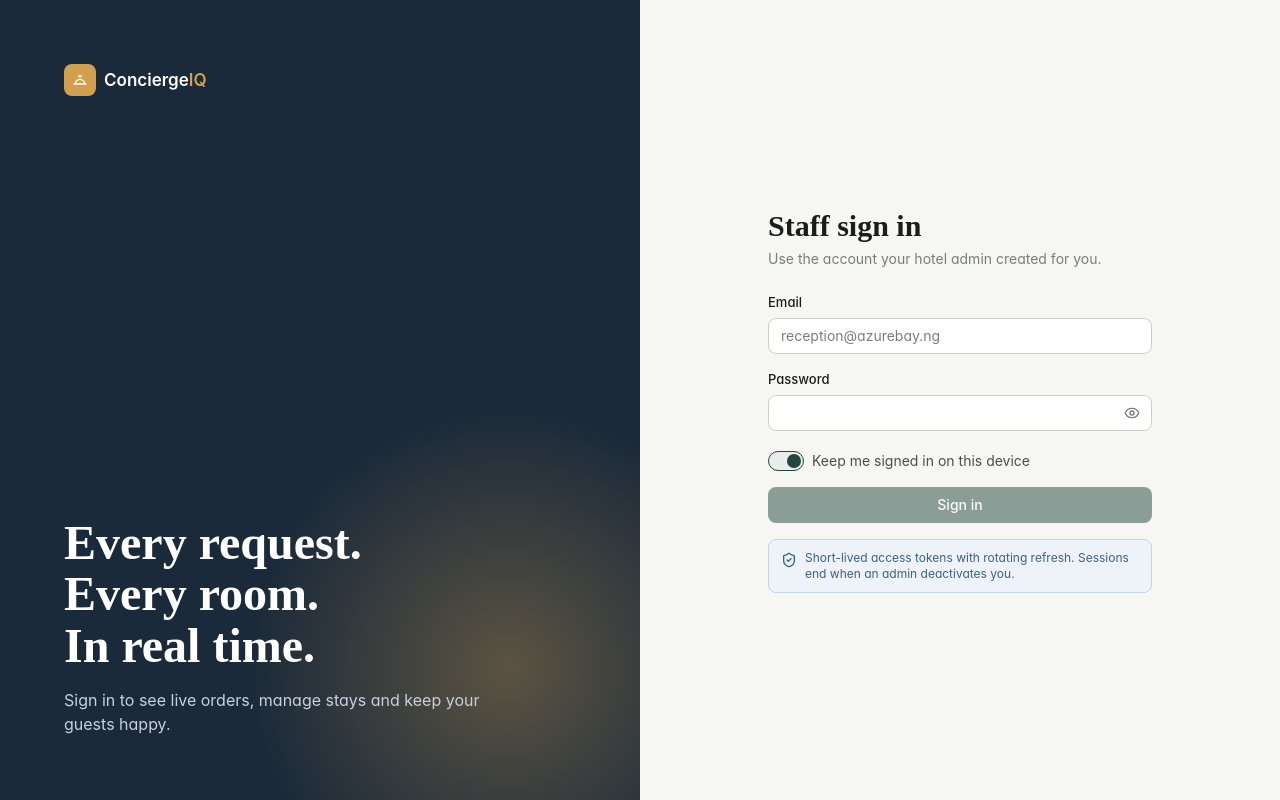
Test: submit button state › is enabled when both fields contain text
Expected: the heading "Staff sign in" is shown, [768,209,921,242]
In the field labelled "Email": (960, 336) [768,318,1152,354], type "amaka@azurebay.test"
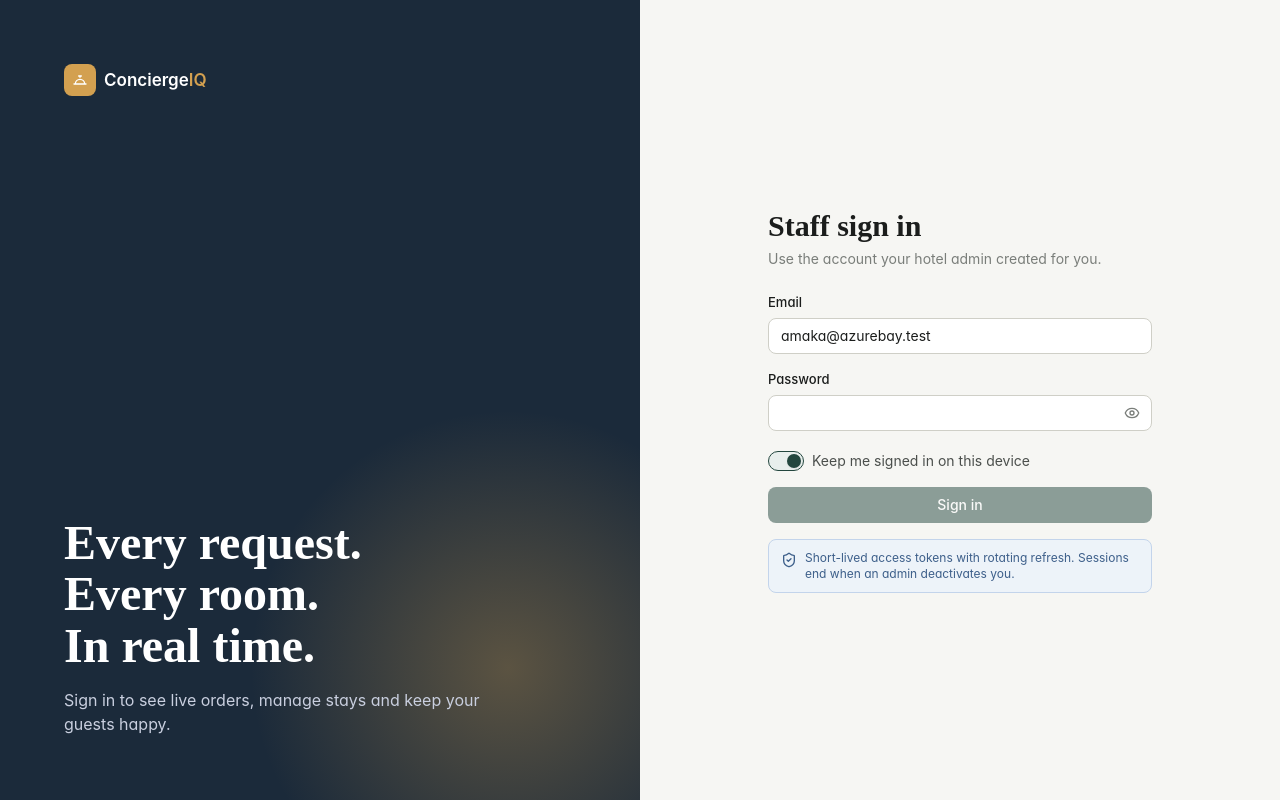
In the password field labelled "Password": (960, 413) [768,395,1152,431], type "ChangeMe123!"
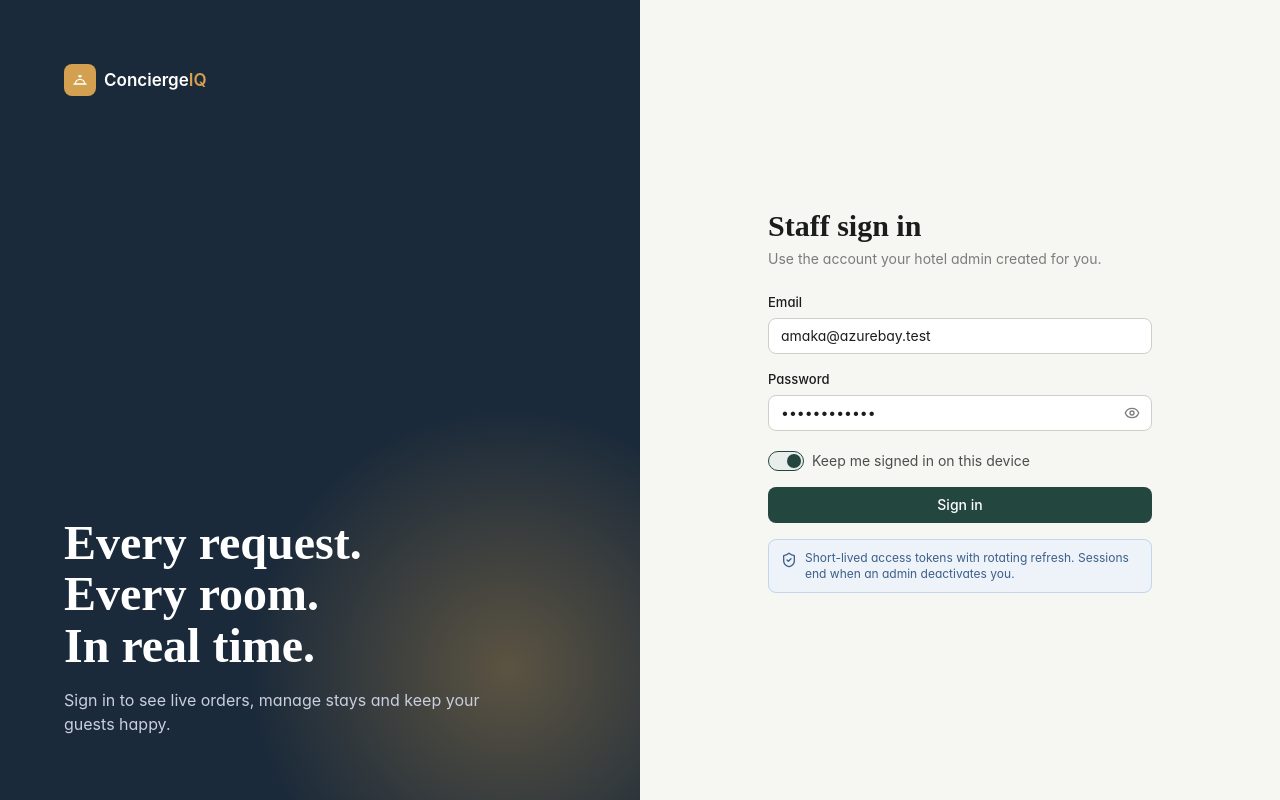
Expected: the button "Sign in" is enabled, [768,487,1152,523]
